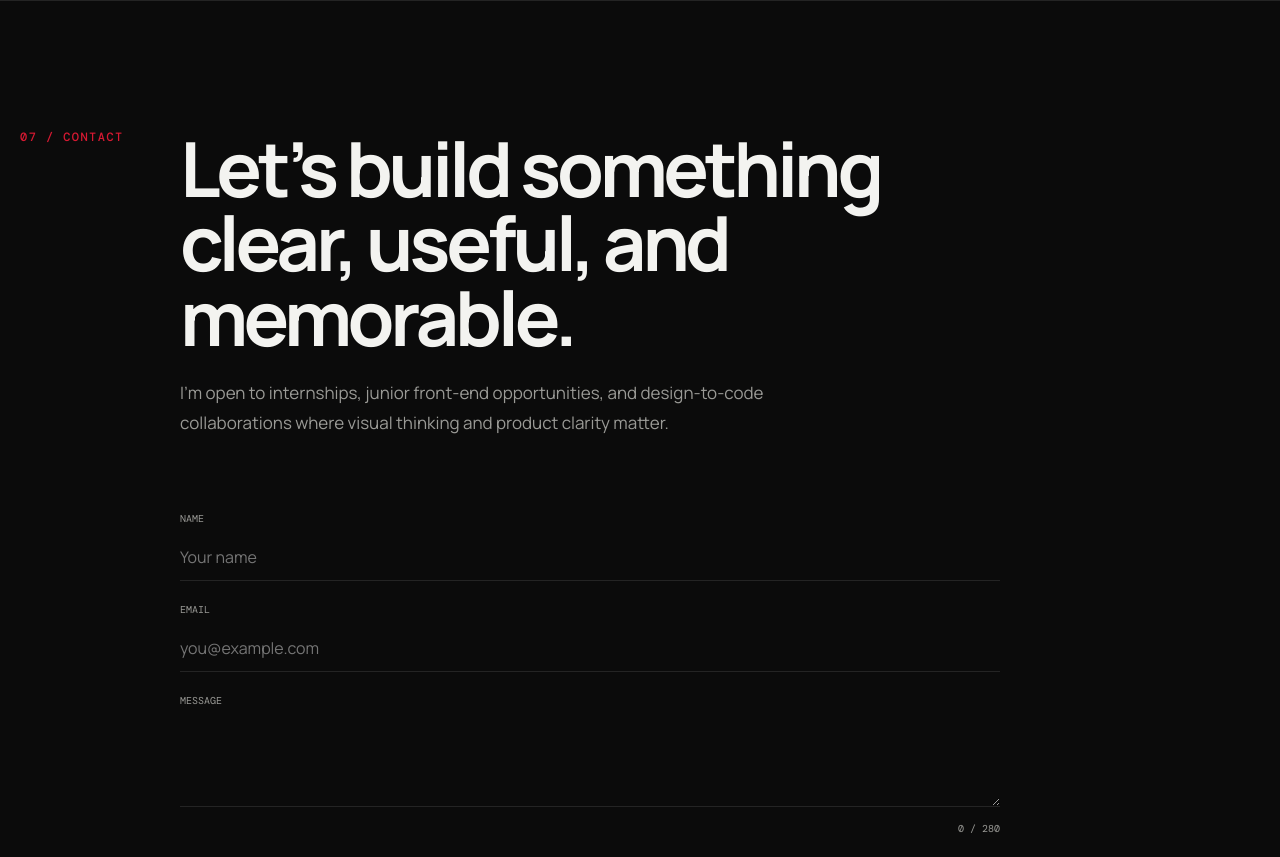
it: contact form › shows an error message when the request fails
Type "Luca" into the field labelled "Name" at (590, 557), box [180, 534, 1000, 581]
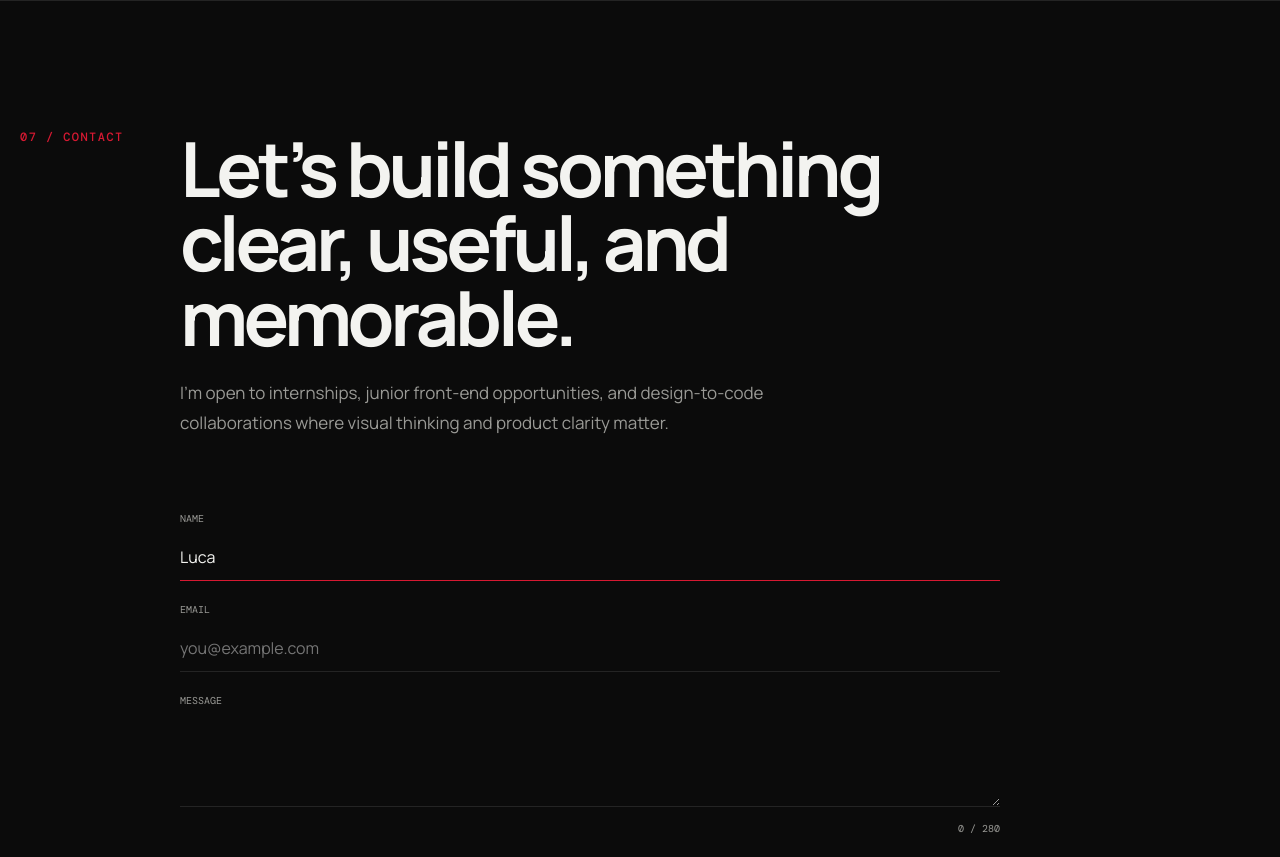
Type "luca@example.com" into the field labelled "Email" at (590, 648), box [180, 625, 1000, 672]
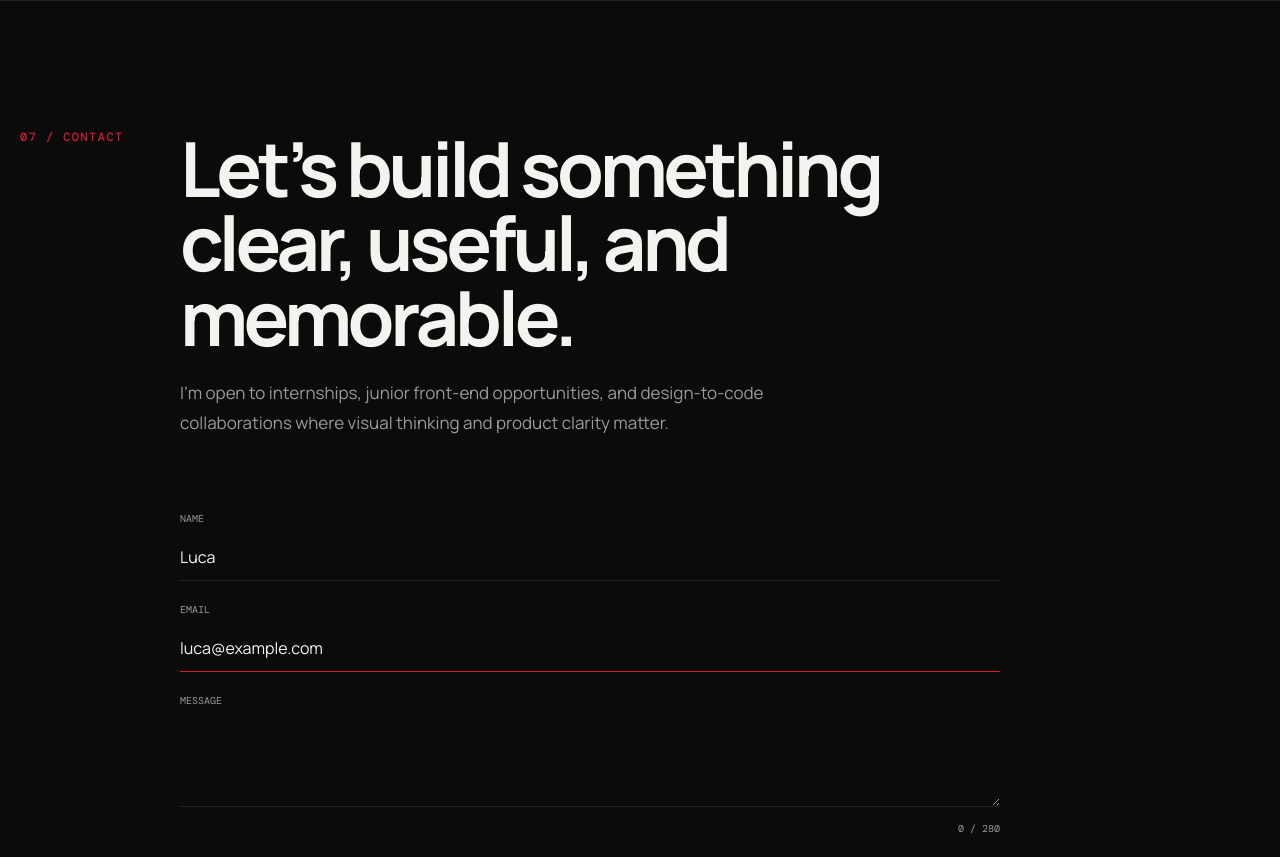
Type "This should fail" into the text box labelled "Message 0 / 280" at (590, 761), box [180, 716, 1000, 807]
(page scrolled)
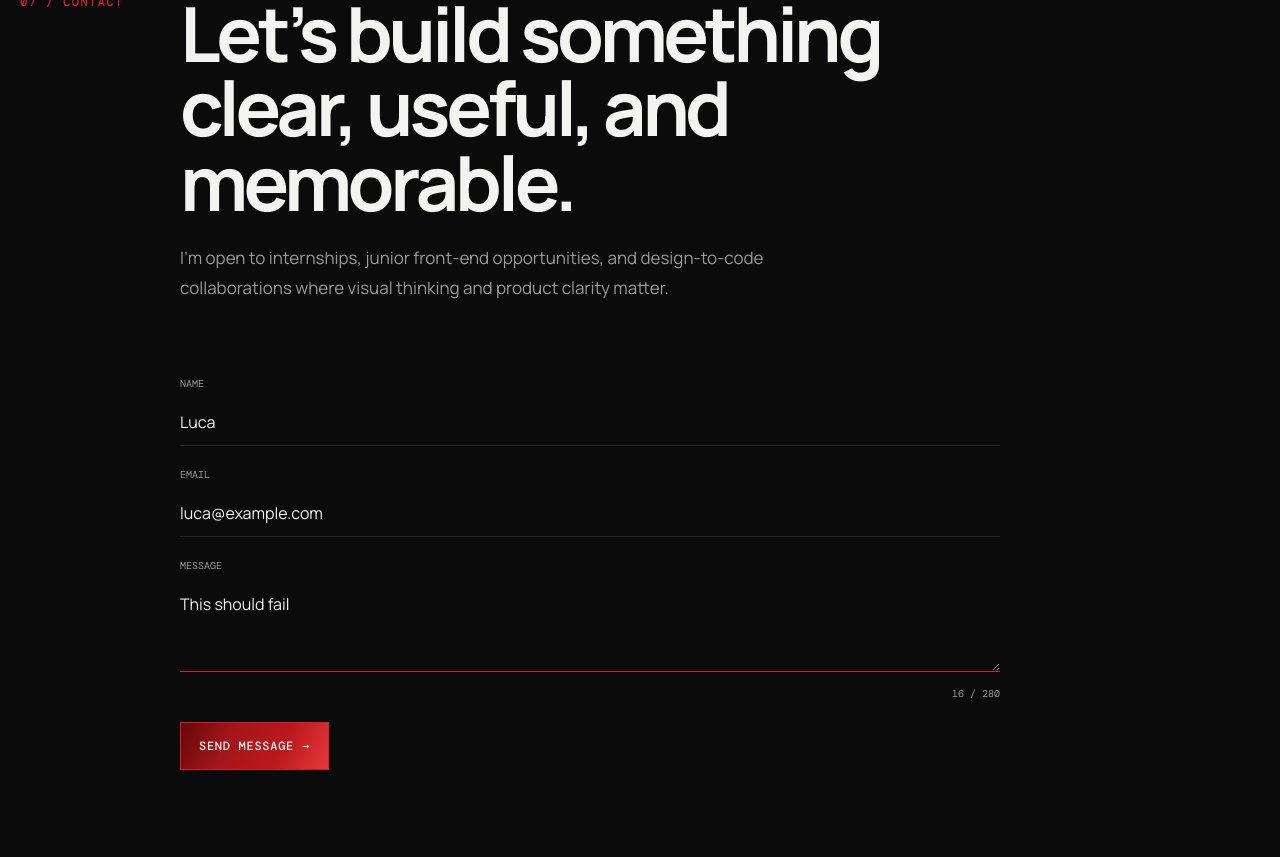
Click the button "Send message →" at (254, 746), box [180, 722, 329, 770]
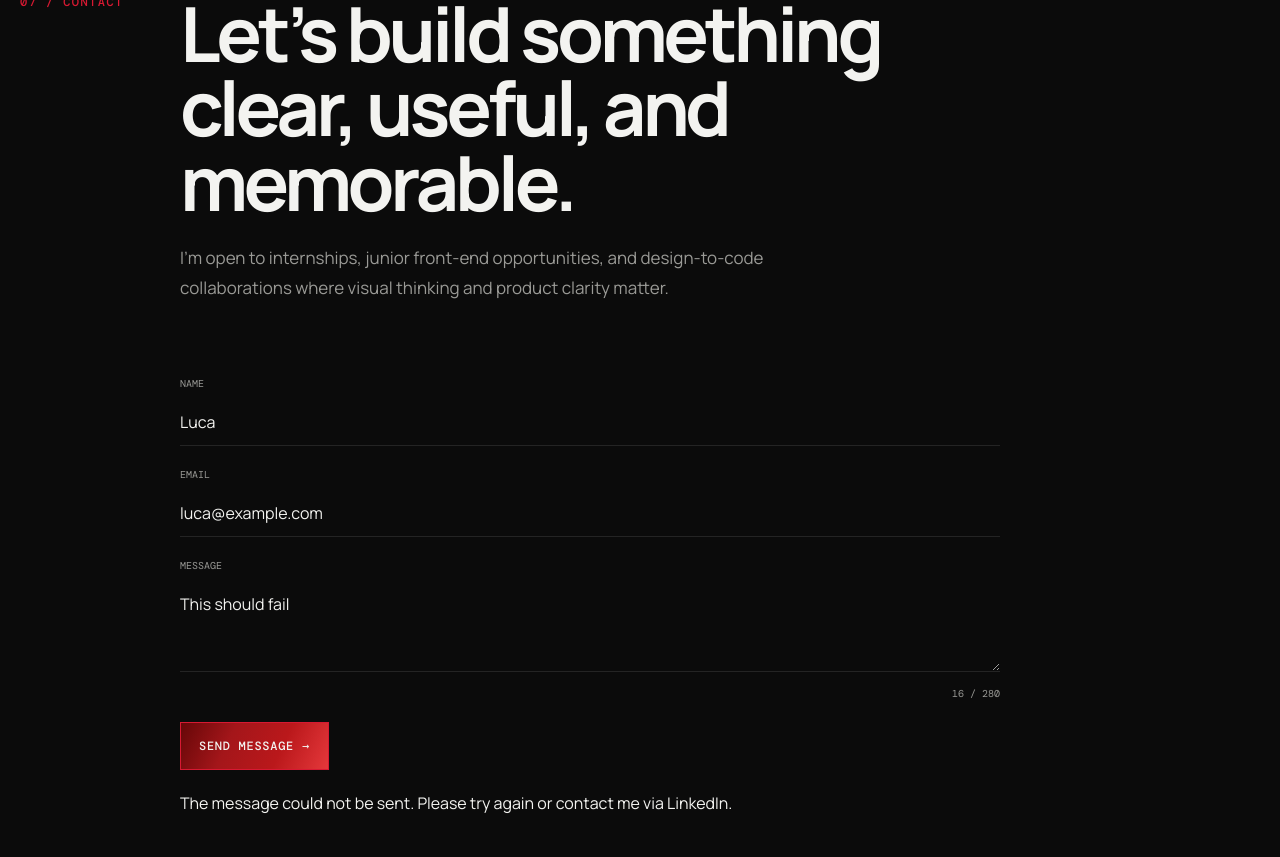
Check: the message shows "could not be sent", box [180, 792, 732, 814]
